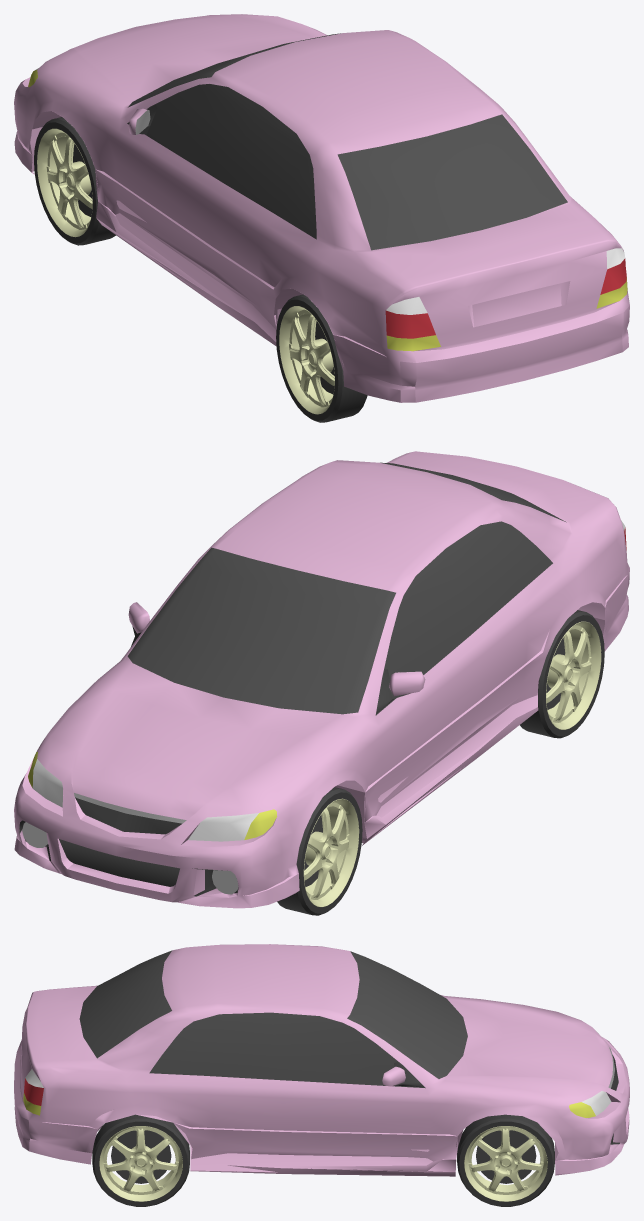
The model's file is GT_001.004_Vehicle.glb.
3 renders of one model, top to bottom at view 1: azimuth 30°, elevation 25°; view 2: azimuth 150°, elevation 25°; view 3: azimuth 270°, elevation 25°, orthographic. The views are drawn at different scales.
Parts seen in each view (by area): view 1: Body, Windows, Tyre.002, Tyre.003, Brakes, Indicator, Rear Lights; view 2: Body, Windows, Tyre.002, Tyre.003, Plastics, Headlights, Indicator; view 3: Body, Windows, Tyre, Tyre.001, Indicator, Plastics, Headlights.
Boxes of the visible parts, left/top/right/bottom form: Body: left=14, top=14, right=629, bottom=402; Windows: left=127, top=33, right=567, bottom=250; Tyre.002: left=276, top=294, right=367, bottom=422; Tyre.003: left=34, top=117, right=115, bottom=245; Brakes: left=385, top=258, right=626, bottom=338; Indicator: left=28, top=70, right=627, bottom=351; Rear Lights: left=386, top=248, right=625, bottom=314; Body: left=14, top=451, right=629, bottom=908; Windows: left=127, top=462, right=566, bottom=715; Tyre.002: left=520, top=610, right=604, bottom=738; Tyre.003: left=277, top=787, right=362, bottom=915; Plastics: left=19, top=626, right=410, bottom=896; Headlights: left=22, top=759, right=258, bottom=894; Indicator: left=28, top=752, right=277, bottom=839; Body: left=14, top=944, right=629, bottom=1176; Windows: left=79, top=950, right=467, bottom=1088; Tyre: left=457, top=1114, right=554, bottom=1206; Tyre.001: left=92, top=1114, right=189, bottom=1206; Indicator: left=23, top=1093, right=595, bottom=1117; Plastics: left=393, top=1055, right=619, bottom=1144; Headlights: left=582, top=1031, right=611, bottom=1115.
Bounding box in the file's own units: 1.81 × 1.48 × 4.38.
